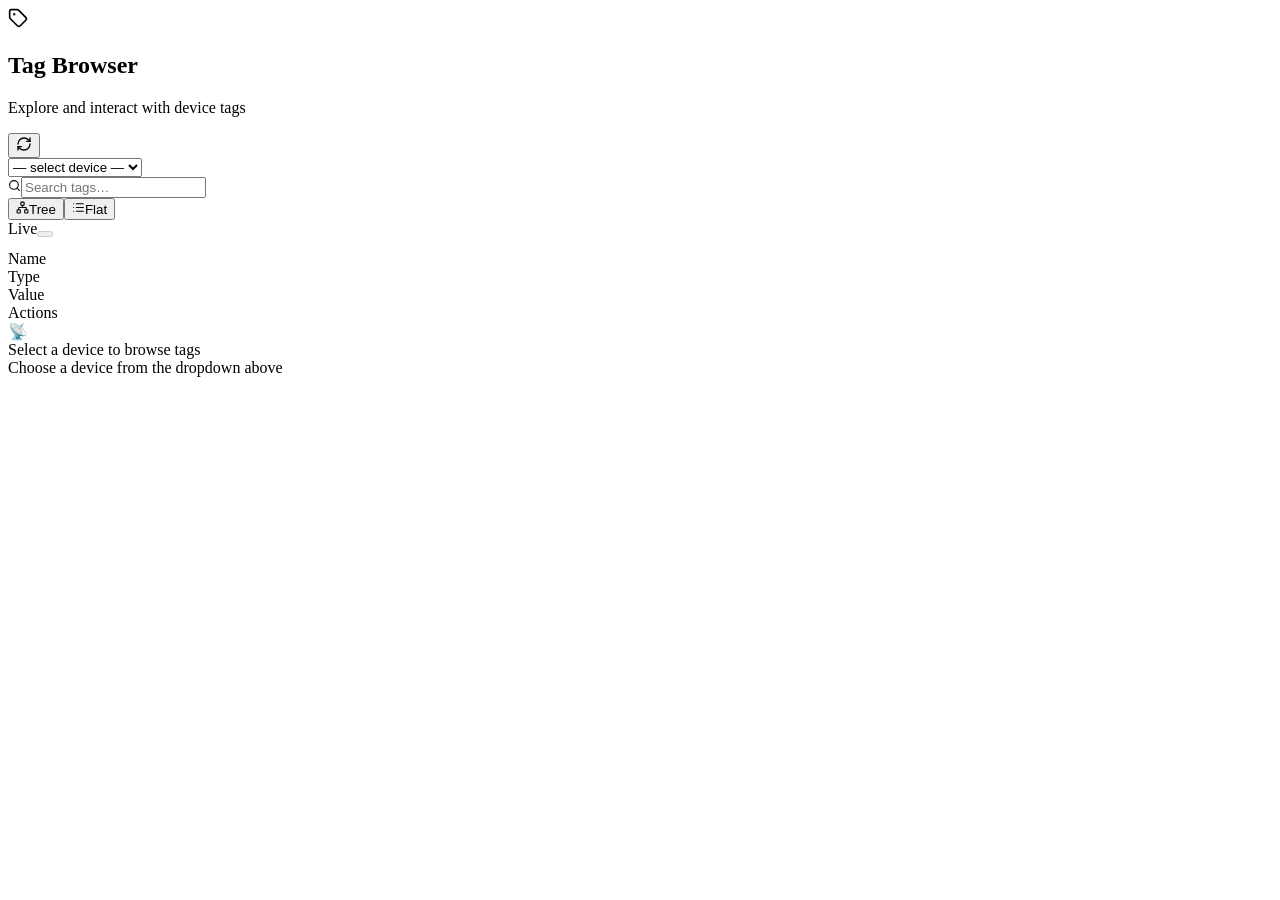
it: TagBrowserView › writes a tag value via POST /tag/write with the CSRF header
Select "Line1_PLC" in the dropdown named "Device" at {"x": 75, "y": 167}, box [8,158,142,177]
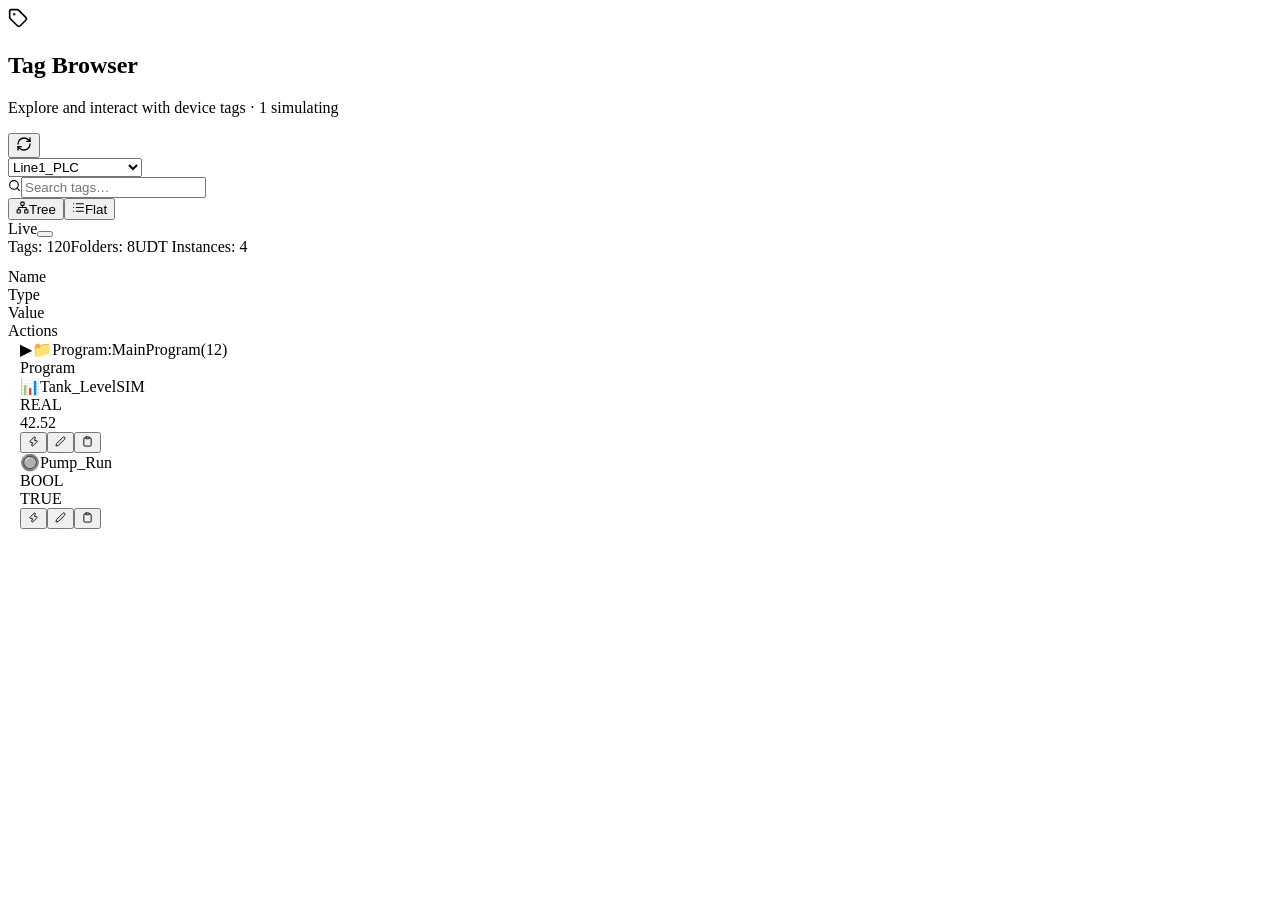
Now the text "Tank_Level" is shown, box [40,378,116,395]
Click the button titled "Write value" below "42.52".
click(60, 442)  # box [47,432,74,453]
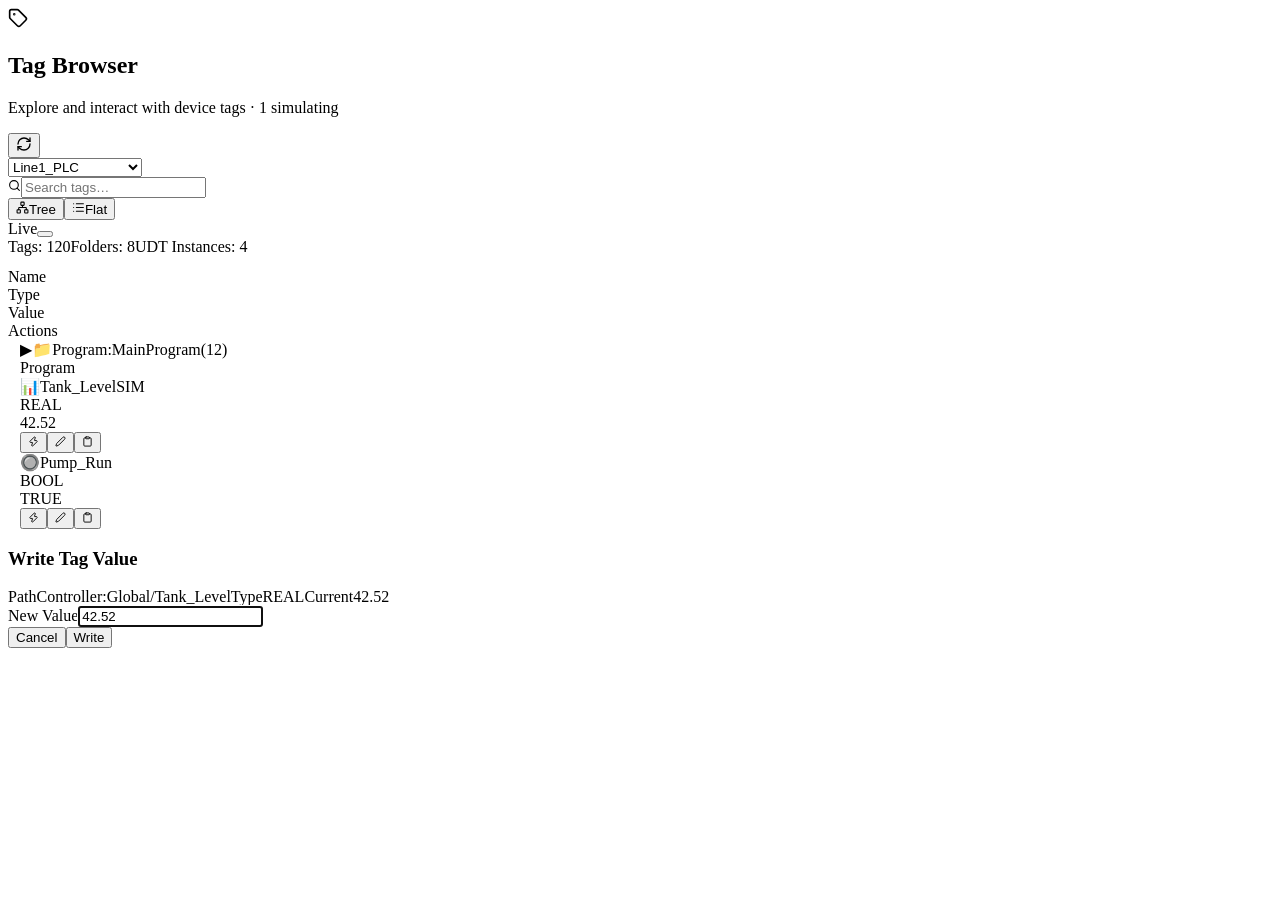
Now the field labelled "New Value" holds "42.52"
Replace the text in the field labelled "New Value" with "55.5" at {"x": 171, "y": 617}, box [78,606,263,627]
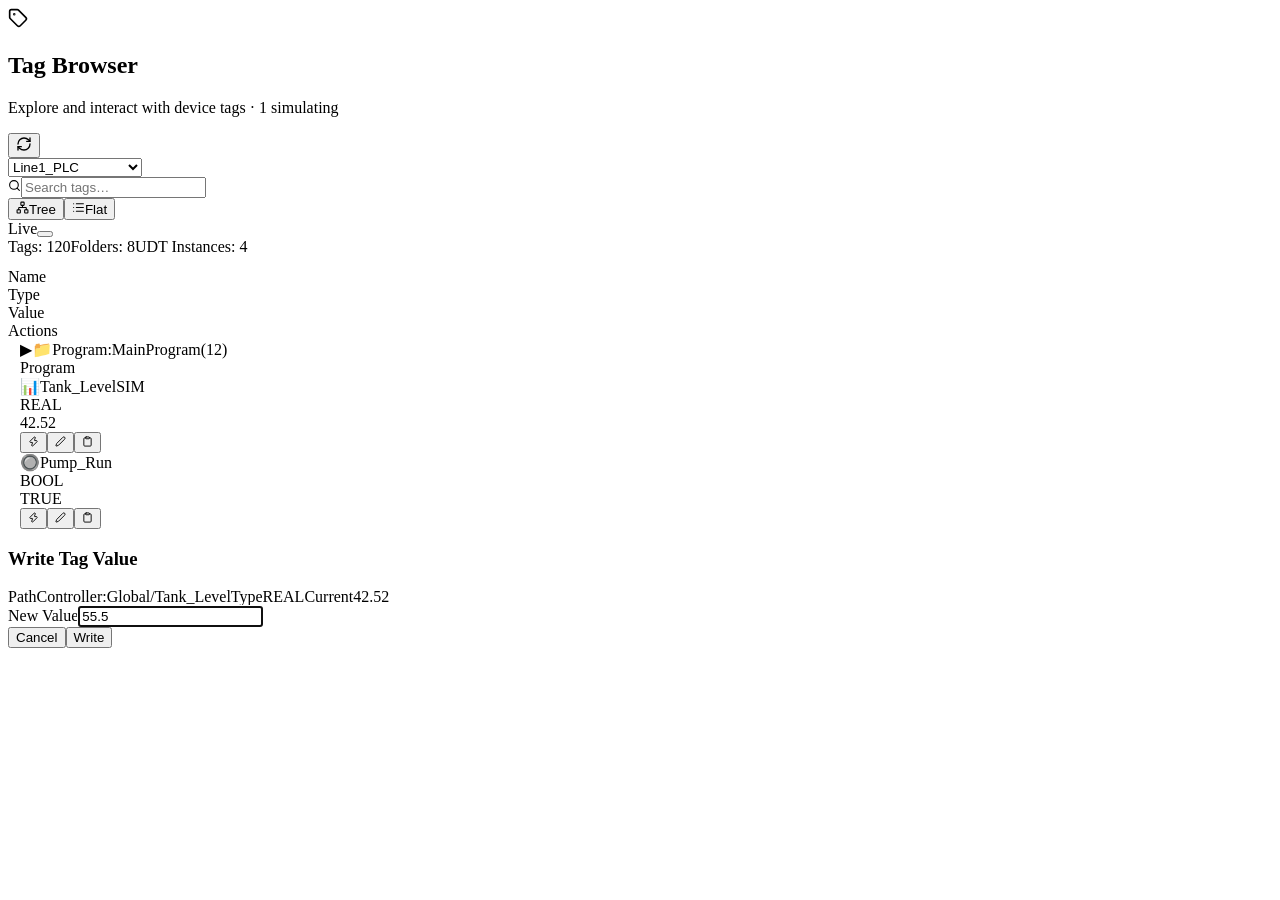
Click the button "Write".
click(89, 638)  # box [66,627,112,648]
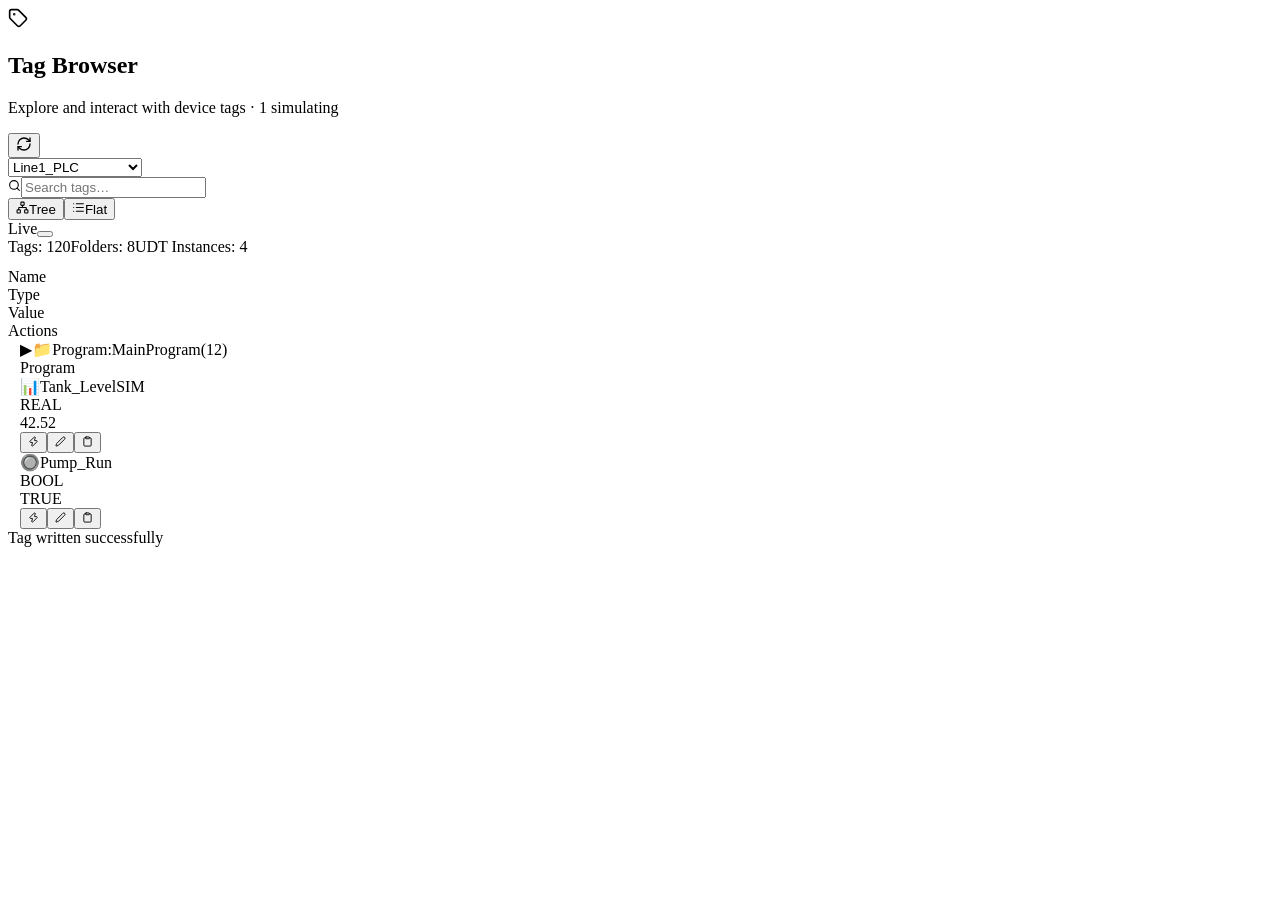
Now the text "Tag written successfully" is shown, box [8,529,163,546]
